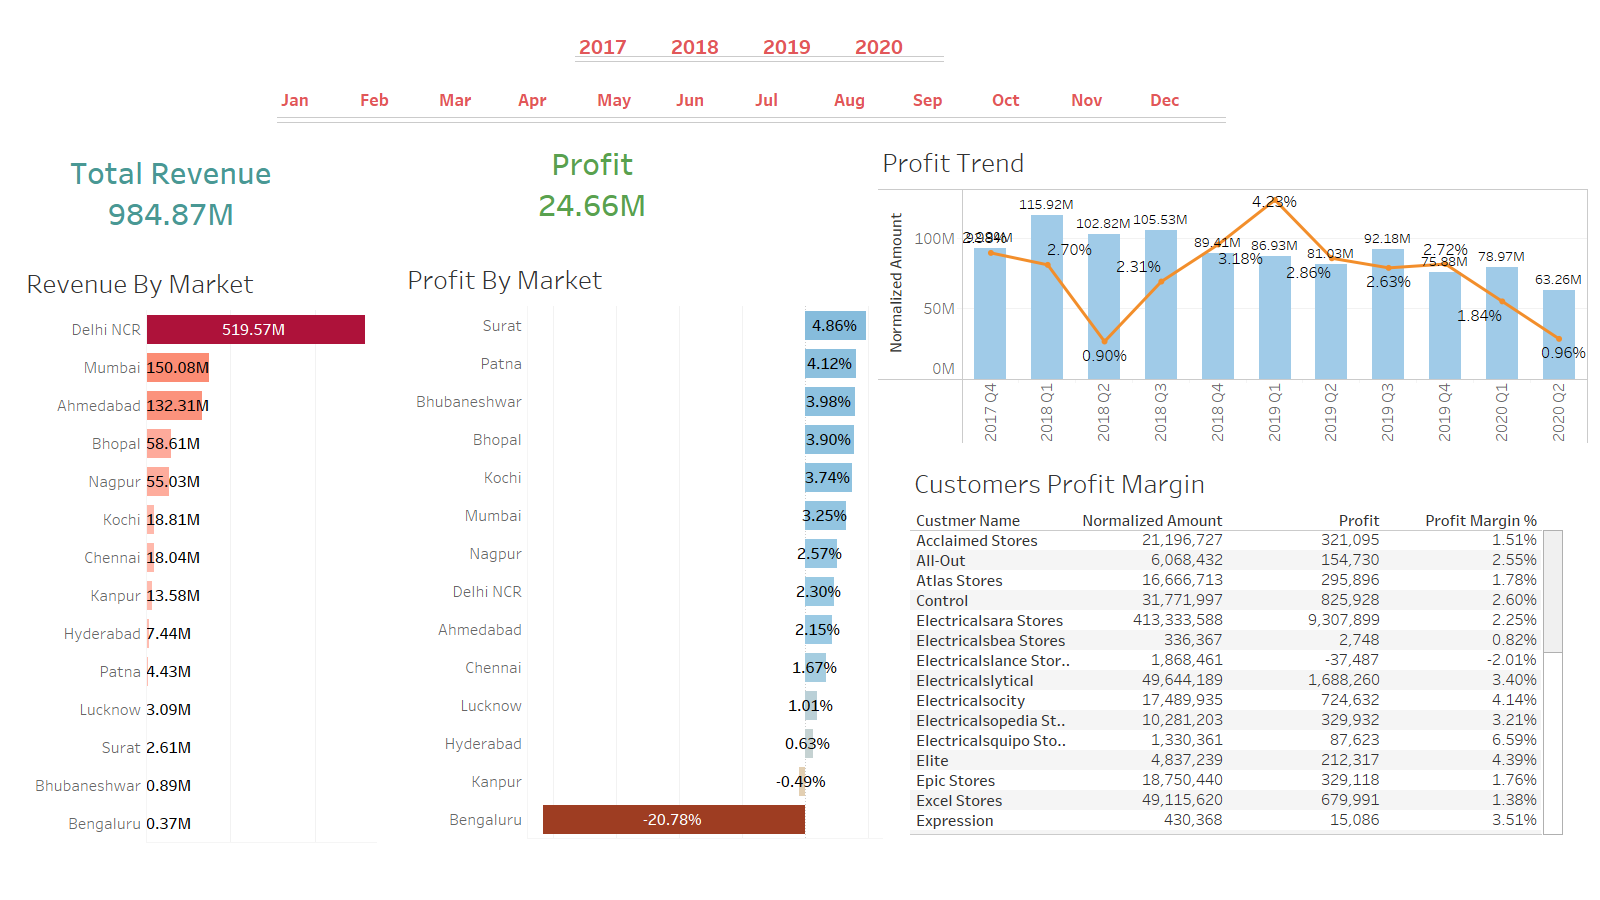

This screenshot's page, from the dashboard's own definition file:
{"tool":"tableau","page":{"name":"Profit Dashboard ","canvas":[1600,900],"ordinal":0},"visuals":[{"type":"worksheet","title":"Year","mark":"Automatic","cols":["cy_date"],"box":[574.9,36,403.2,84]},{"type":"worksheet","title":"Month","mark":"Automatic","cols":["cy_date"],"box":[277.3,81,1018.7,71]},{"type":"worksheet","title":"Profit Trend","mark":"Bar","rows":["Calculation_1418070963399802880","Calculation_276689932879622144"],"cols":["cy_date"],"box":[878,139,710,305]},{"type":"worksheet","title":"Profit","mark":"Automatic","box":[533,143,263,112]},{"type":"worksheet","title":"Revenue","mark":"Automatic","box":[33.1,152,445.9,90]},{"type":"worksheet","title":"Profit By Market","mark":"Automatic","rows":["markets_name"],"cols":["Calculation_276689932879622144"],"box":[403,256,479,603]},{"type":"worksheet","title":"Revenue By Market","mark":"Automatic","rows":["markets_name"],"cols":["Calculation_1418070963399802880"],"box":[22,260,354,592]},{"type":"worksheet","title":"Customers Profit Margin","mark":"Automatic","rows":["custmer_name"],"box":[910,460,668,375]}]}

Visuals, with their boxes in screenshot pixels (x1, y1, x2, y2), scaled from the page's 1600x900 canvas onto the 1600x900 screenshot:
"Year" worksheet: [575, 36, 978, 120]
"Month" worksheet: [277, 81, 1296, 152]
"Profit Trend" worksheet (Bar marks): [878, 139, 1588, 444]
"Profit" worksheet: [533, 143, 796, 255]
"Revenue" worksheet: [33, 152, 479, 242]
"Profit By Market" worksheet: [403, 256, 882, 859]
"Revenue By Market" worksheet: [22, 260, 376, 852]
"Customers Profit Margin" worksheet: [910, 460, 1578, 835]
